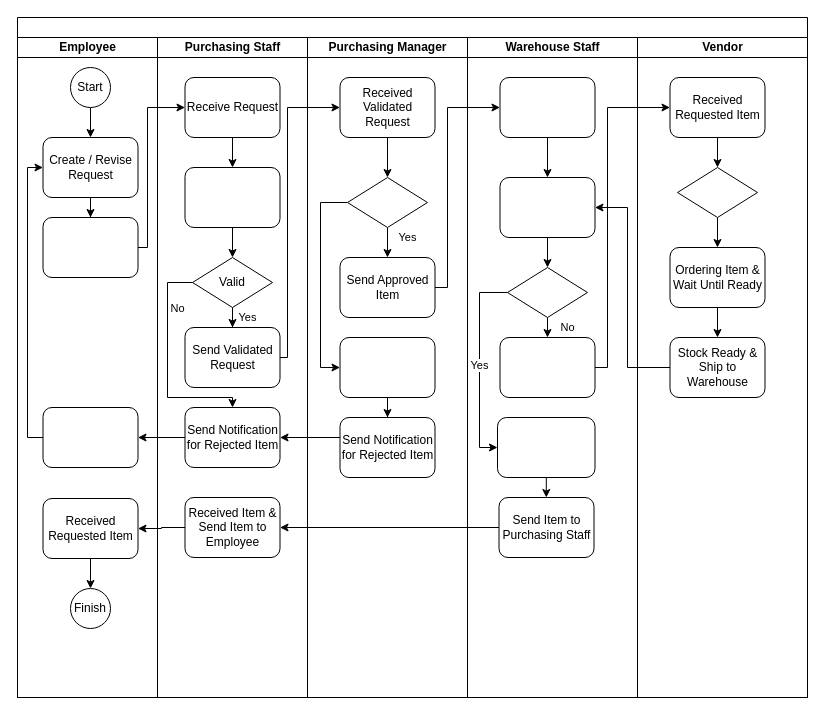
This 825x715 diagram has some shape labels left out. Here are the shapes that lost their labels. From the top down, the centre of each, then its label:
At point 547,107: "Received Approved Request Item".
At point 232,197: "Validate Request".
At point 387,202: "Approve".
At point 547,207: "Check Item Stock".
At point 717,192: "Need Order".
At point 90,247: "Submit Request".
At point 547,292: "Available".
At point 387,367: "Set Request to rejected".
At point 547,367: "Contact Vendor for Requesting Add Item".
At point 90,437: "Receive Notification for Rejected Item".
At point 545,447: "Reserve Item & Get Requested Item".
